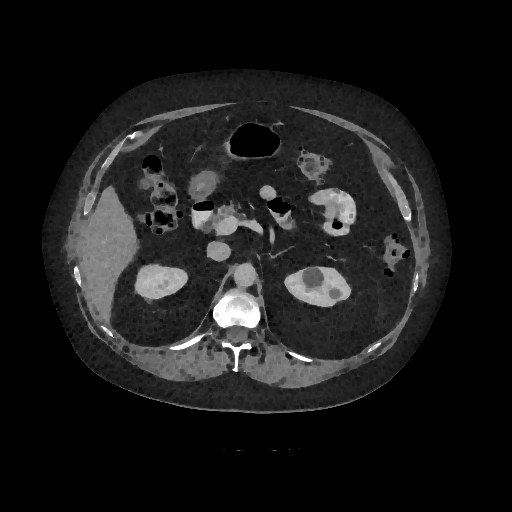Lesion: (300, 263, 326, 290)
